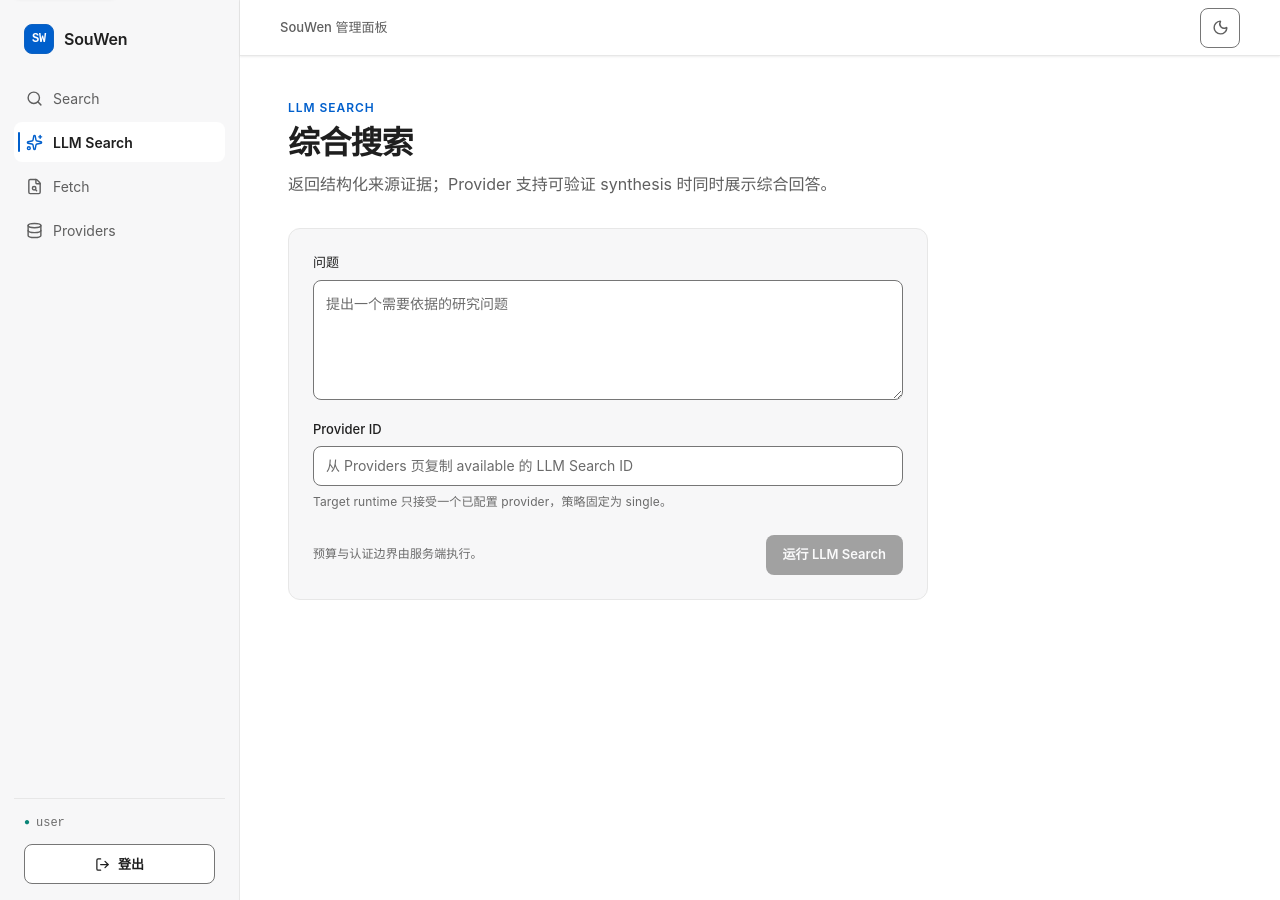
Test: Calm Precision Panel › treats evidence-only LLM Search as a successful contract response
The image size is (1280, 900).
Type "evidence-only query" into the text box labelled "问题" at (608, 340), box [313,280,903,400]
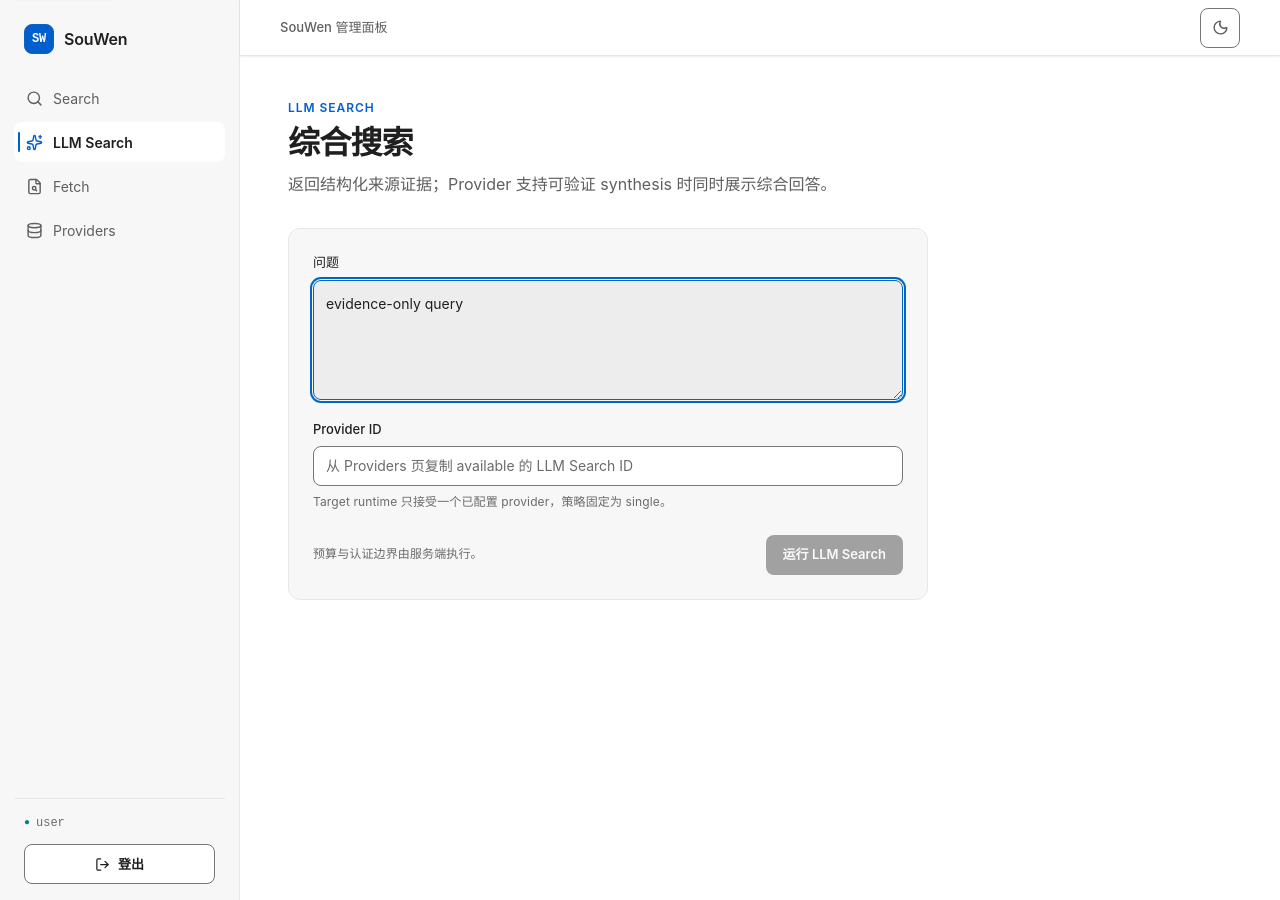
Type "provider-a" into the field labelled "Provider ID" at (608, 466), box [313,446,903,486]
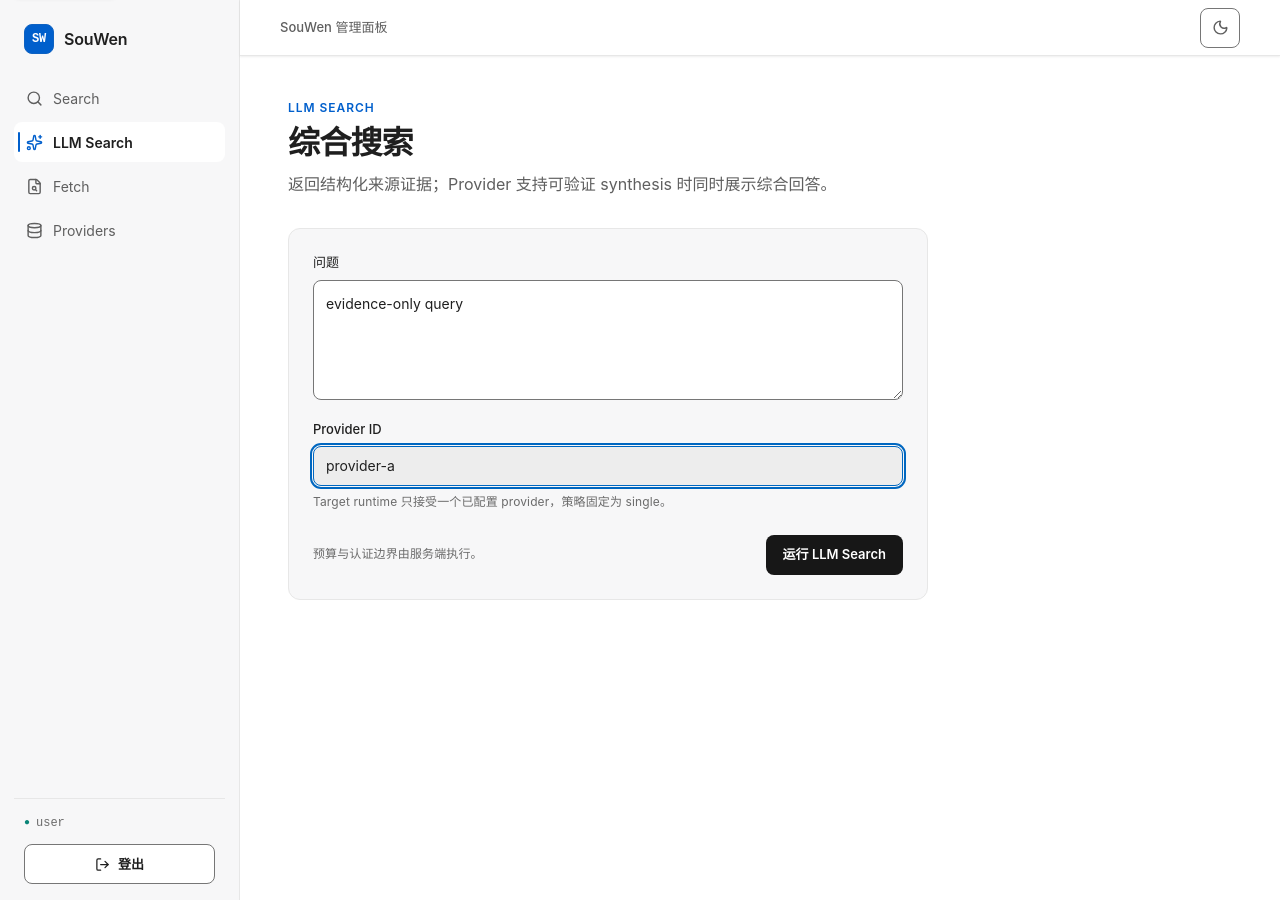
Click the button "运行 LLM Search" at (834, 555), box [766,535,903,575]
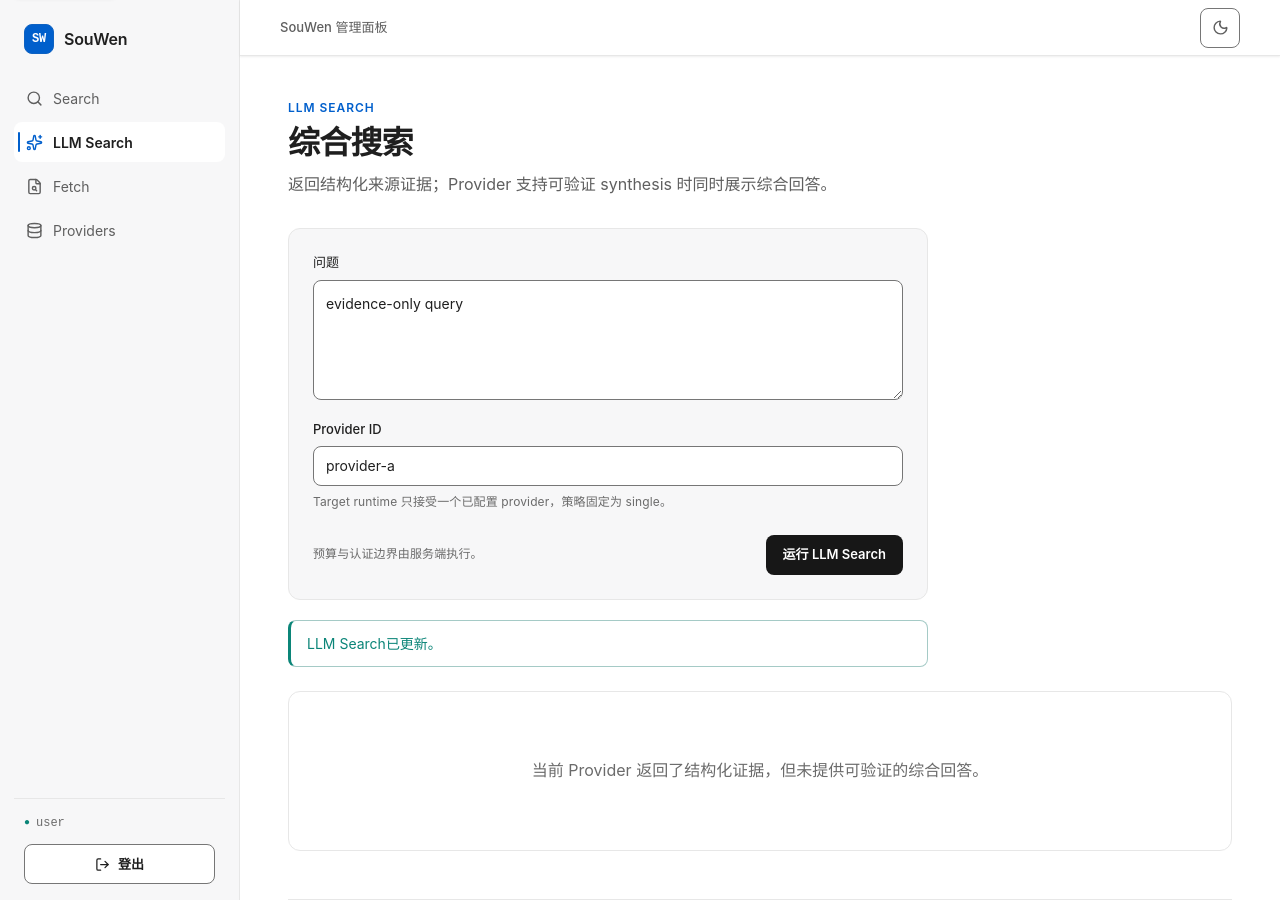
Check: the text "当前 Provider 返回了结构化证据，但未提供可验证的综合回答。" is shown, box [288,691,1232,851]
